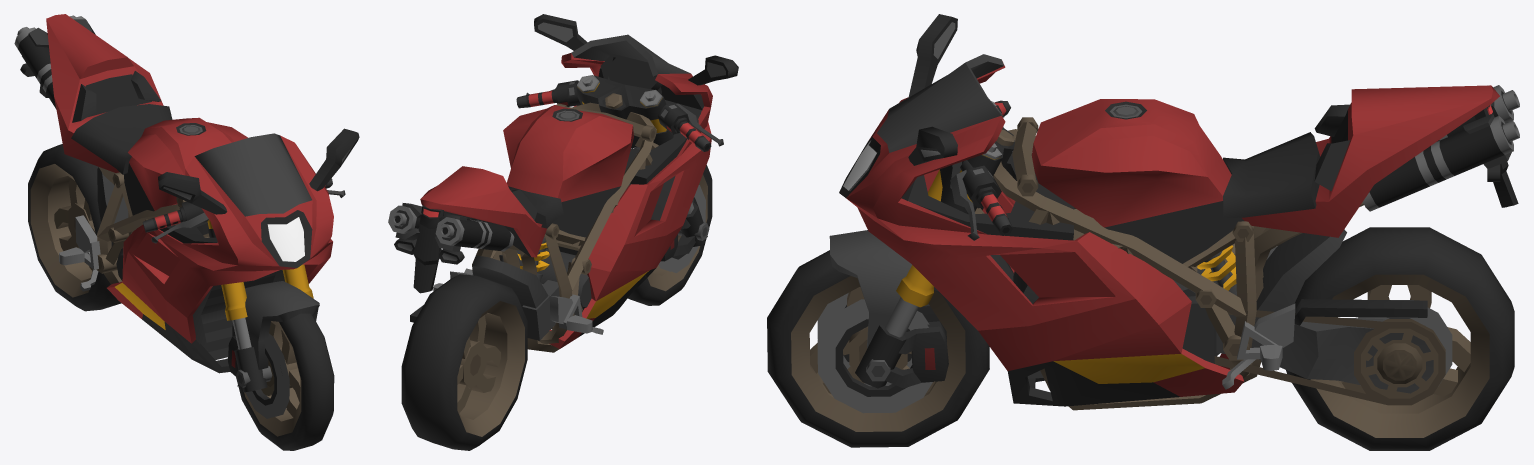
File: Sports_Bike.fbx
The picture shows the model from 3 angles, left to right: view 1: azimuth 30°, elevation 25°; view 2: azimuth 150°, elevation 25°; view 3: azimuth 270°, elevation 25°; orthographic projection. The views are drawn at different scales.
Parts seen in each view (by area): view 1: Bike, Front Wheel, Rear Wheel, Handle; view 2: Bike, Rear Wheel, Handle, Front Wheel; view 3: Bike, Rear Wheel, Front Wheel, Handle.
Part boxes in pixels (box(x1,y1,x2,y2)): Bike: box(14, 14, 359, 373); Front Wheel: box(232, 313, 334, 450); Rear Wheel: box(28, 144, 121, 311); Handle: box(142, 178, 345, 392); Bike: box(388, 14, 738, 352); Rear Wheel: box(401, 274, 527, 450); Handle: box(516, 75, 723, 261); Front Wheel: box(628, 165, 712, 305); Bike: box(839, 14, 1519, 410); Rear Wheel: box(1286, 227, 1514, 450); Front Wheel: box(767, 250, 989, 447); Handle: box(829, 100, 1014, 388).
Bounding box in the file's own units: 0.8456 × 1.14 × 2.04.
1 material, 1 textured.
